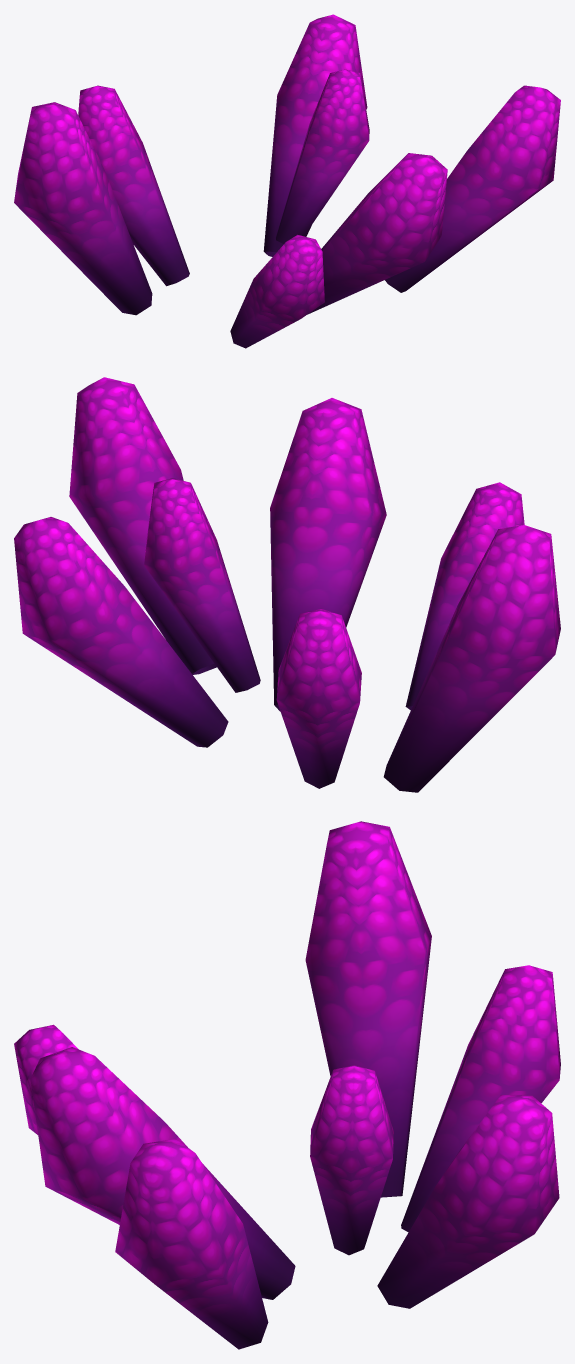
Rendered from Coral_10b.FBX.
3 views of the same model, one above another, from view 1: azimuth 30°, elevation 25°; view 2: azimuth 150°, elevation 25°; view 3: azimuth 270°, elevation 25° (orthographic). The views are drawn at different scales.
Parts seen in each view (by area): view 1: Coral_10b; view 2: Coral_10b; view 3: Coral_10b.
Part boxes in pixels (x1,y1,x2,y2): Coral_10b: [14, 14, 560, 348]; Coral_10b: [14, 377, 560, 792]; Coral_10b: [14, 821, 560, 1349].
Size of the model in its own units: 46.71 by 22.68 by 34.38.
